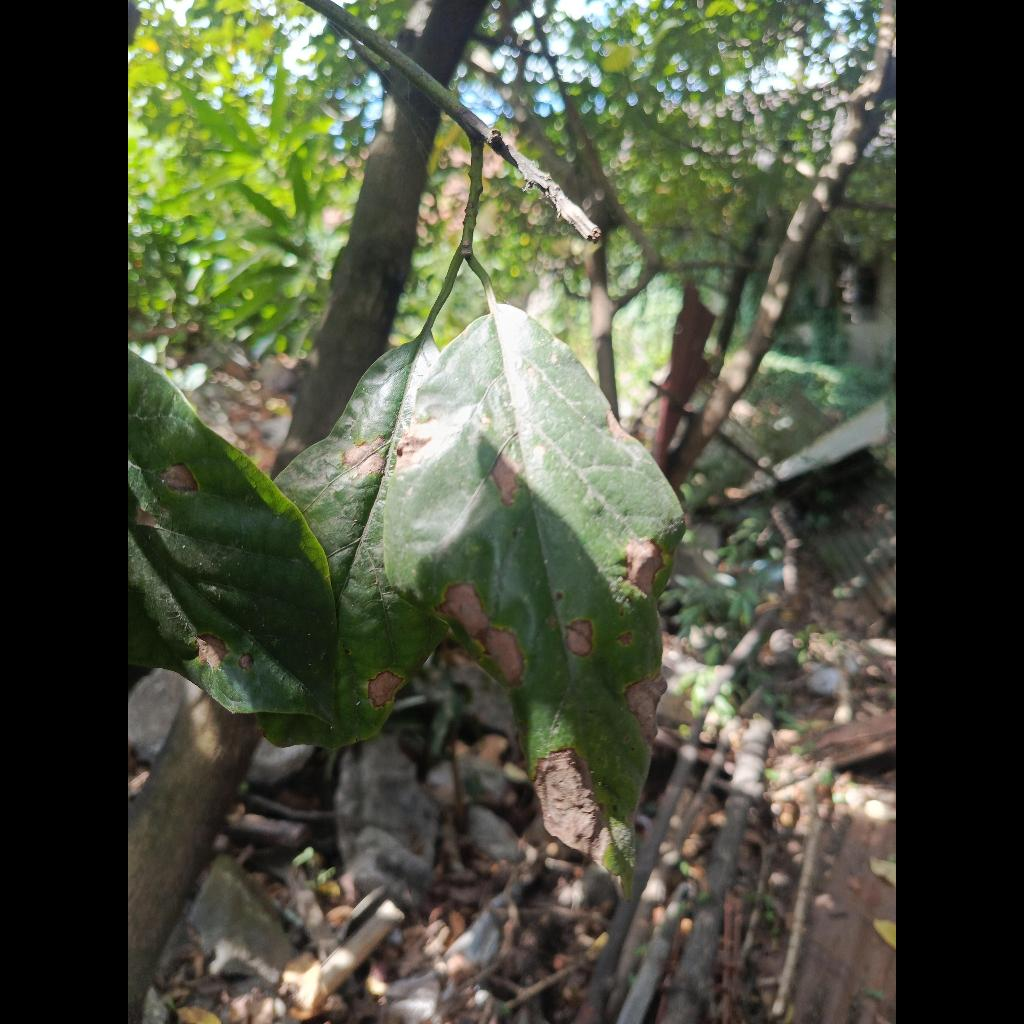Anthracnose: (383, 303, 684, 883)
